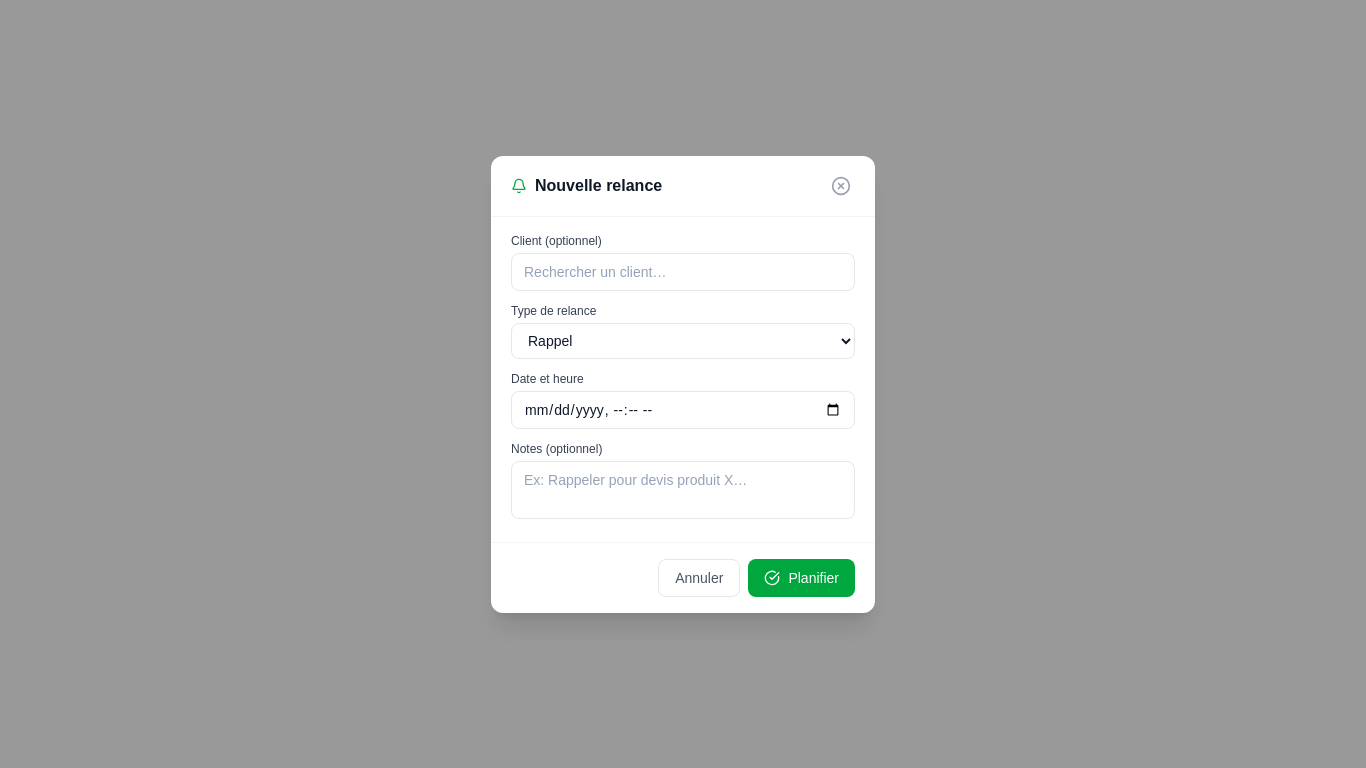
it: CreateFollowUpModal › affiche une erreur si la date est absente au submit
Click the button "Planifier": (802, 578) [748,558,855,596]
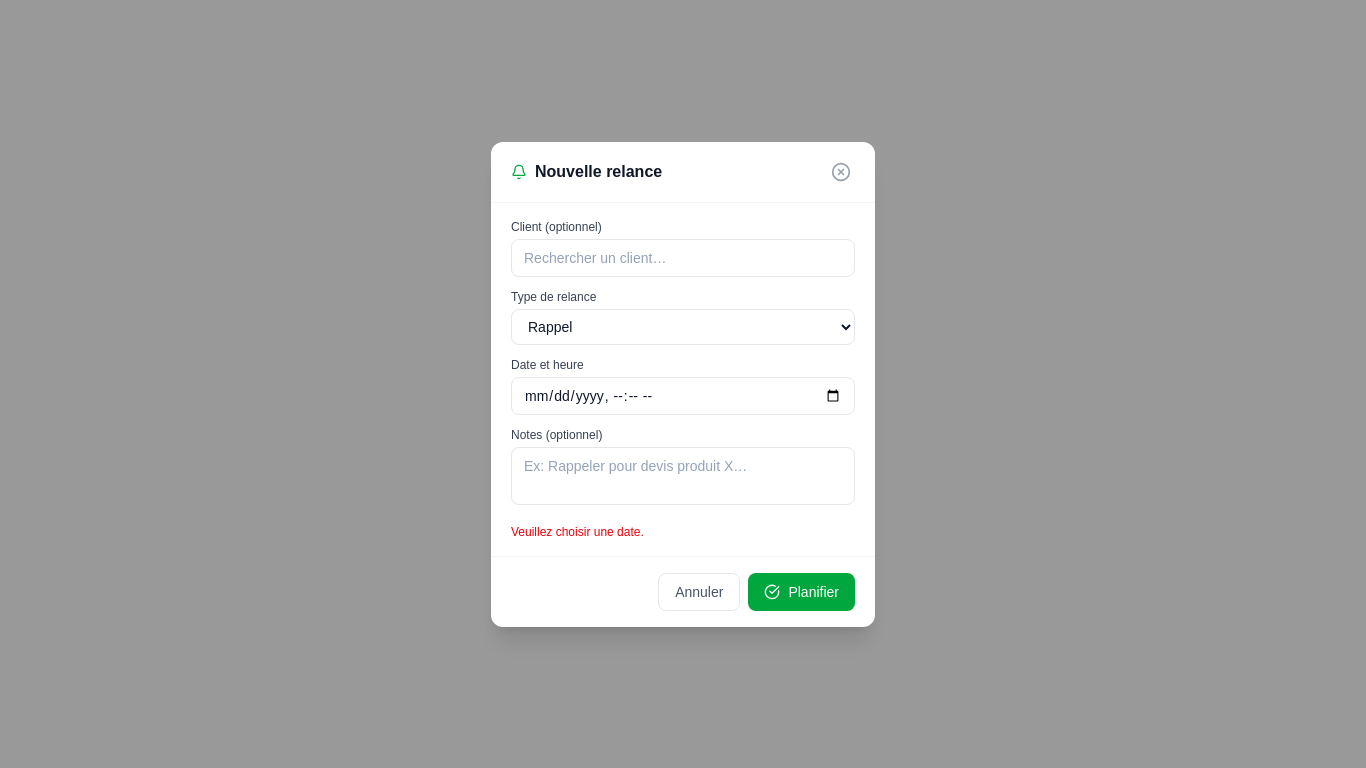
Check: the text "Veuillez choisir une date." is shown, box [511,524,644,538]
